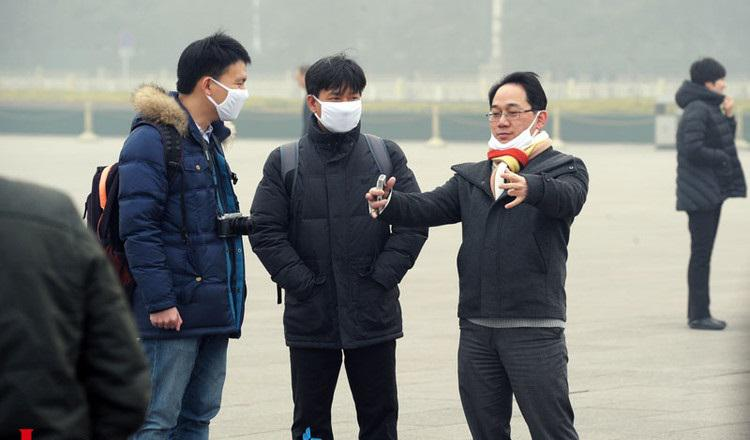NONE: (702, 71, 731, 100)
OK: (318, 85, 362, 135), (218, 65, 252, 120)
WRONG: (491, 96, 532, 152)
